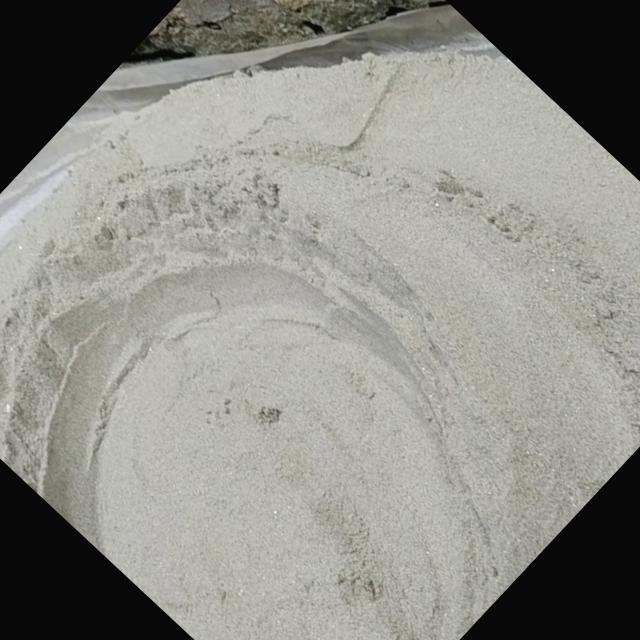C40: (40, 260, 479, 640)
